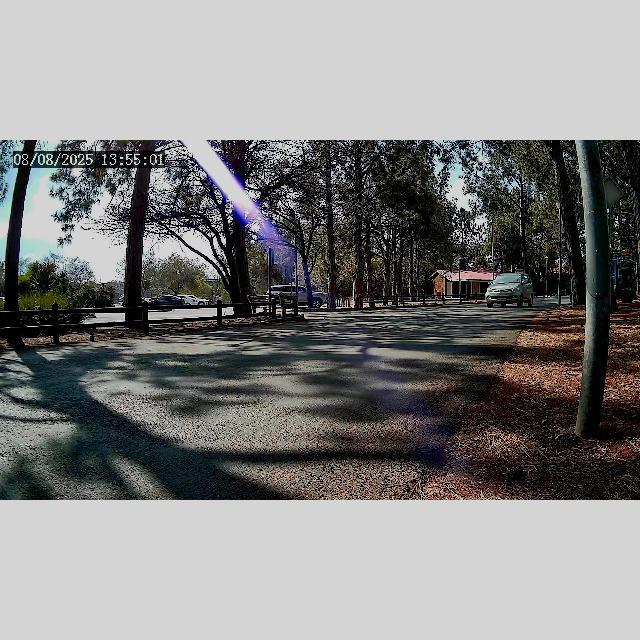car: (486, 272, 534, 308)
